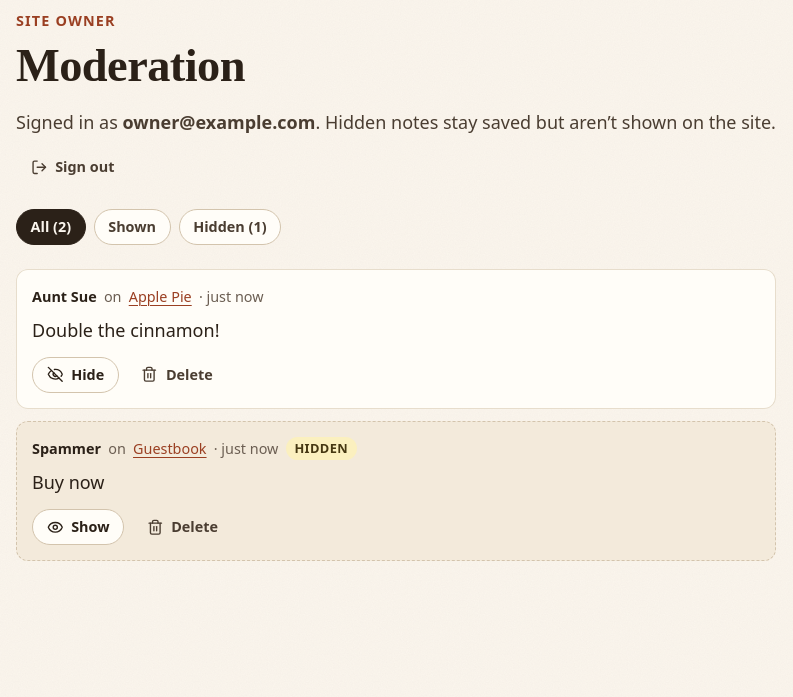
Test: Admin › lets an admin hide and delete notes
The image size is (793, 697).
Expected: the text "Double the cinnamon!" is shown, [32, 318, 220, 342]
Expected: the link "Apple Pie" is shown, [129, 285, 192, 308]
Click the button "Hide" at [75, 375], box [32, 357, 119, 393]
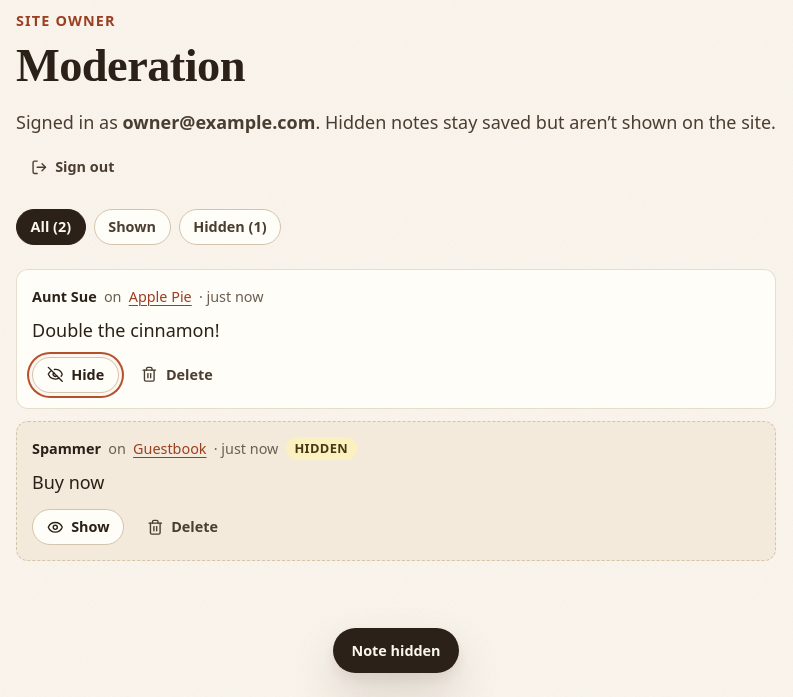
Click the button "Show" at [78, 527], box [32, 509, 124, 545]
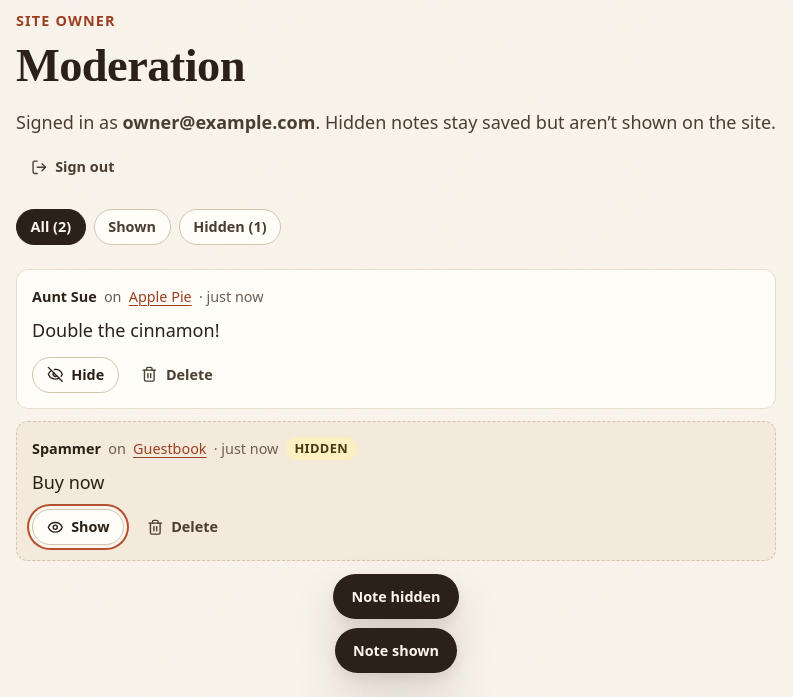
Click the button "Delete" below "Spammer" at [182, 527], box [132, 509, 233, 545]
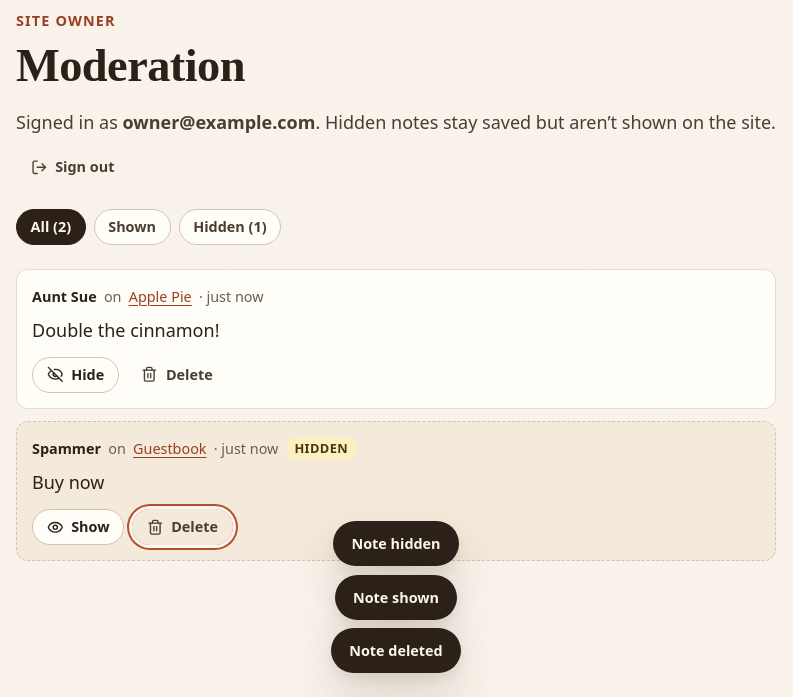
Click the button "Hidden (1)" at [230, 227], box [179, 209, 281, 245]
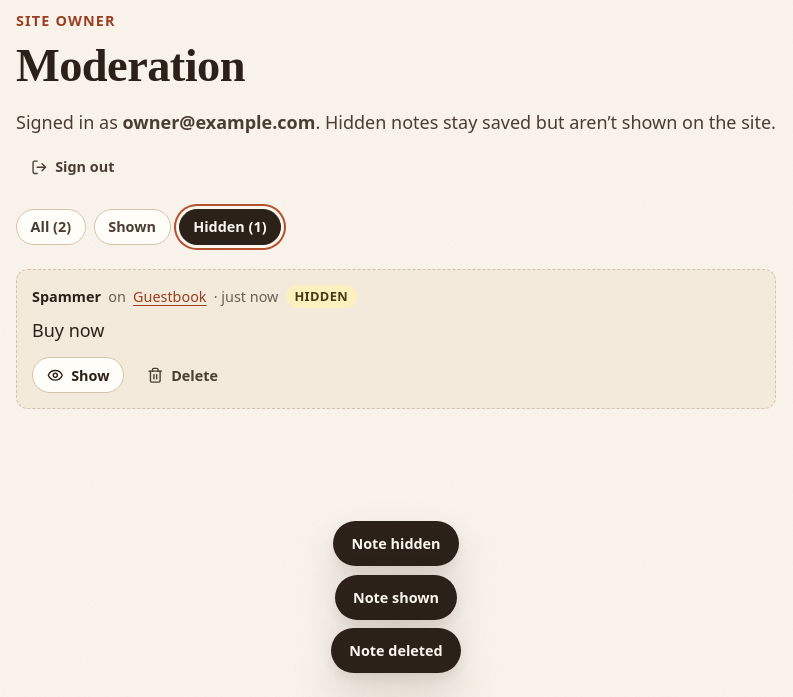
Now the text "Double the cinnamon!" is gone
